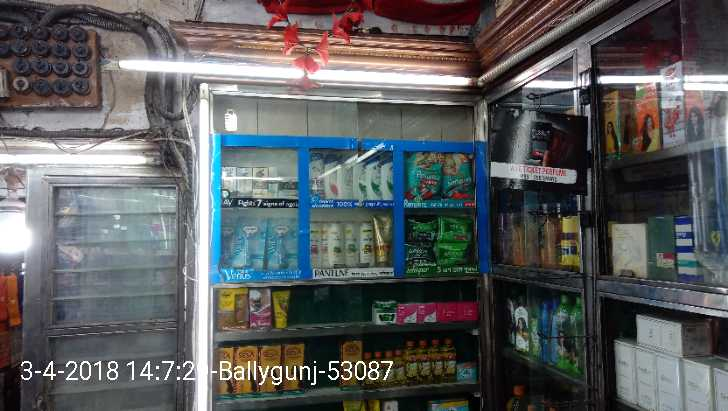venus: (262, 218, 298, 269), (236, 216, 262, 269), (221, 220, 235, 268)
